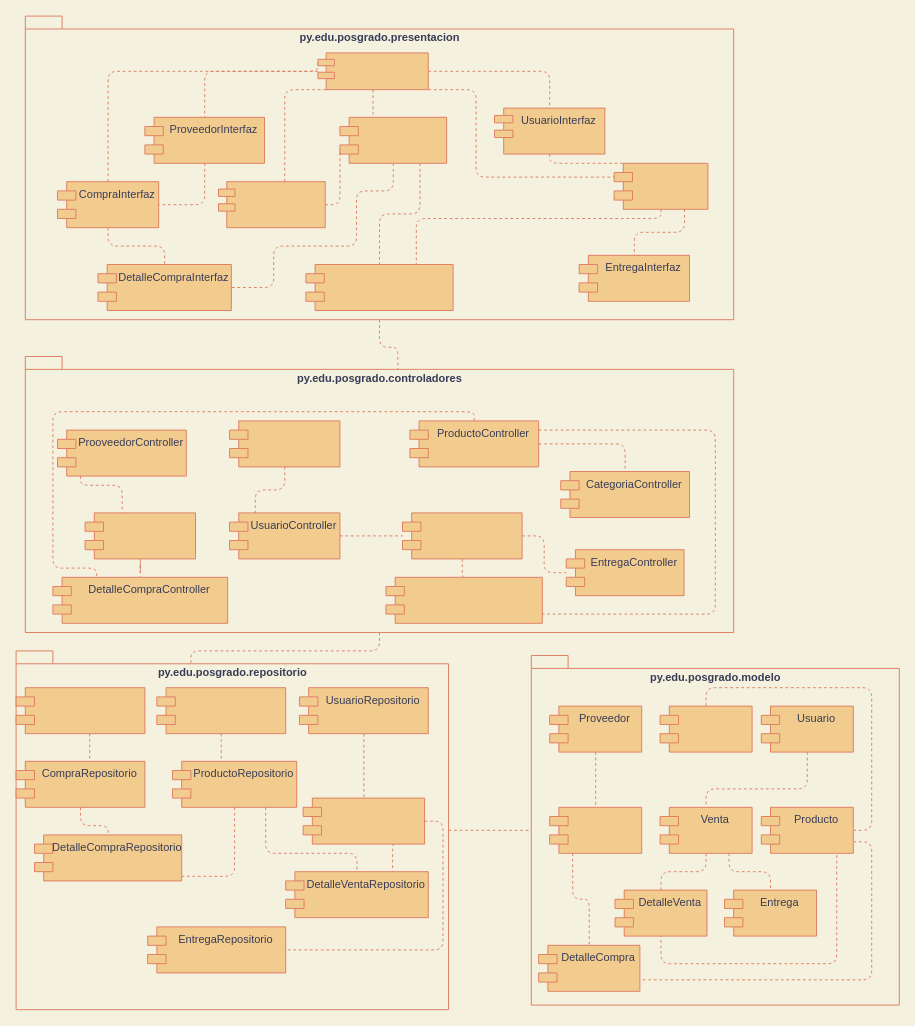
The diagram is 915 pixels wide and 1026 high, and some of its shapes have lost their labels. The centre of each missing label's shape, as x and y in pixels:
Categoria: the point at 705,728
CategoriaInterfaz: the point at 271,204
CategoriaRepositorio: the point at 221,710
Compra: the point at 595,829
CompraController: the point at 140,535
DetalleVentaController: the point at 463,599
DetalleVentaInterfaz: the point at 379,287
MainController: the point at 284,443
MainInterfaz: the point at 372,71
ProductoInterfaz: the point at 393,139
ProveedorRepositorio: the point at 80,710
VentaController: the point at 462,535
VentaInterfaz: the point at 660,185
VentaRepositorio: the point at 363,820
